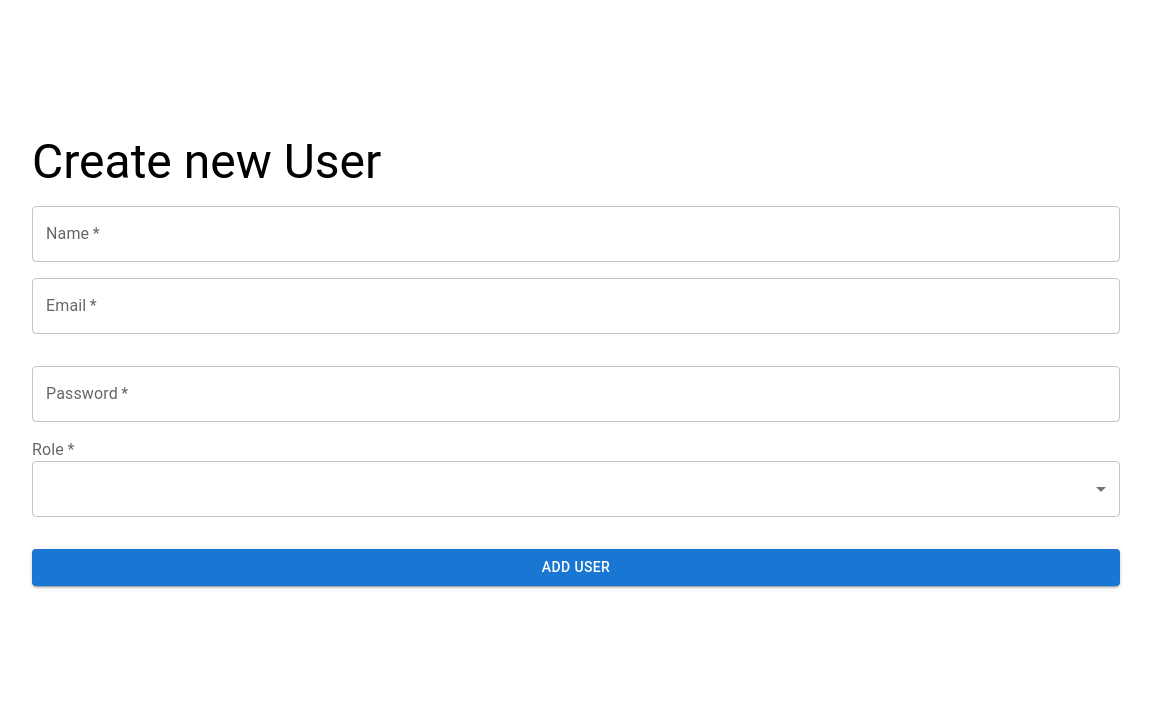
Scenario: AddUserFormMittel Component › should display password error messages
In the field labelled "Password *": (576, 394) [32, 366, 1120, 422], type "short"
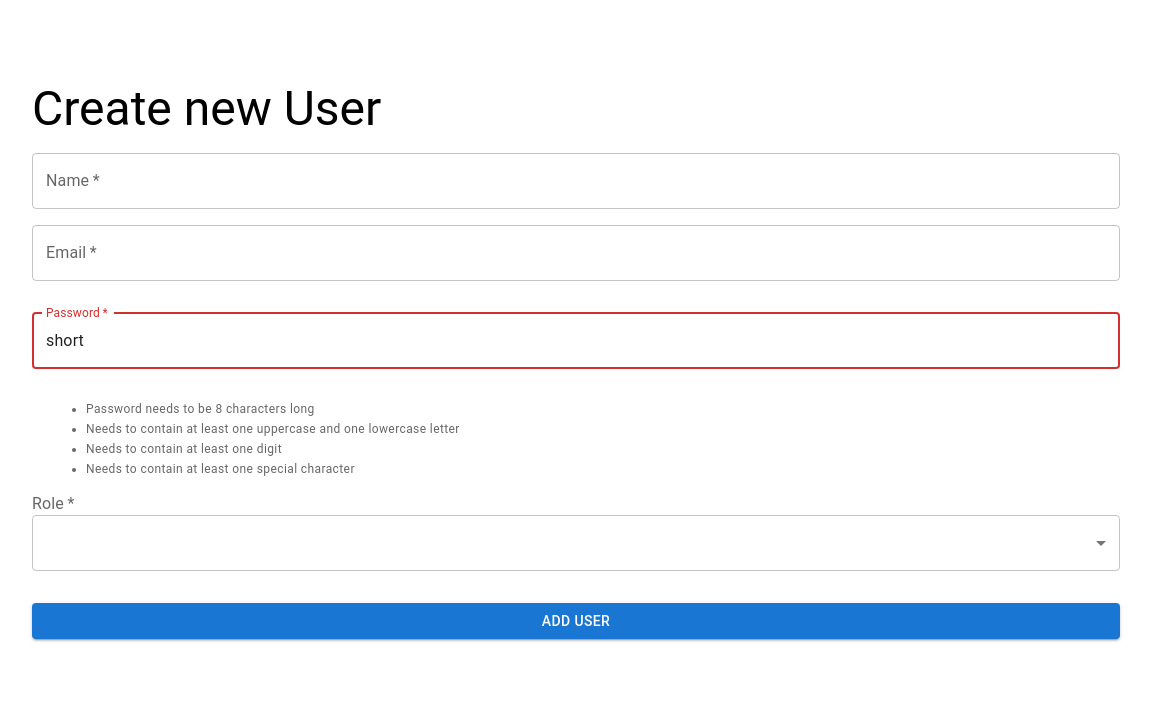
Check: the list item "Password needs to be 8 characters long" is shown, box [86, 402, 315, 416]
Check: the list item "Needs to contain at least one uppercase and one lowercase letter" is shown, box [86, 422, 460, 436]
Check: the list item "Needs to contain at least one digit" is shown, box [86, 442, 282, 456]
